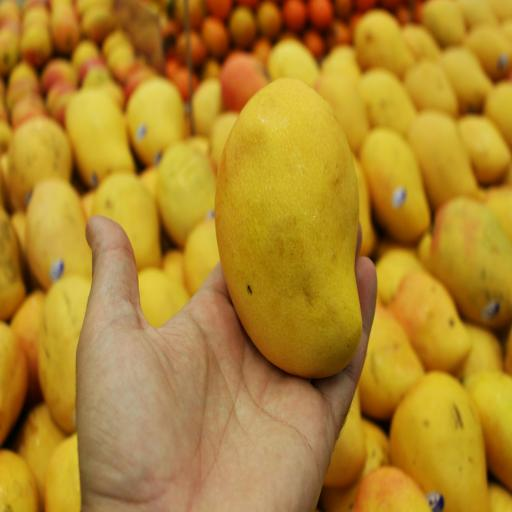Mango-Detection: (176, 31, 428, 458)
